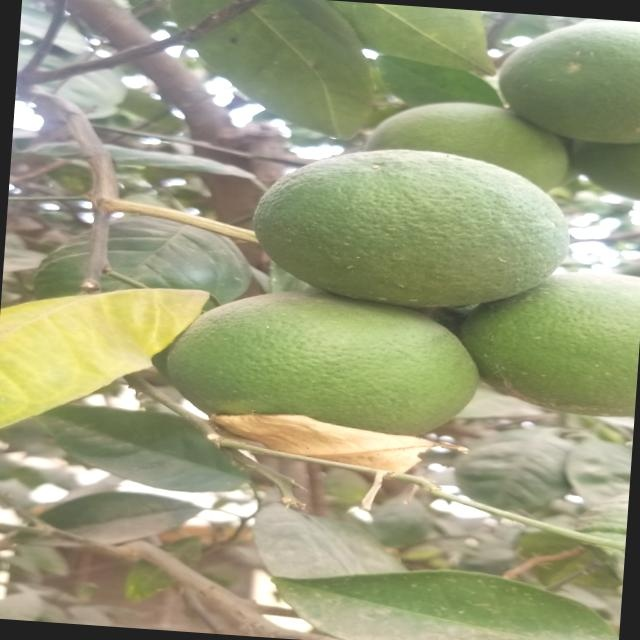agrume: (220, 136, 583, 324), (150, 286, 498, 470), (478, 11, 640, 175), (484, 261, 640, 422)
